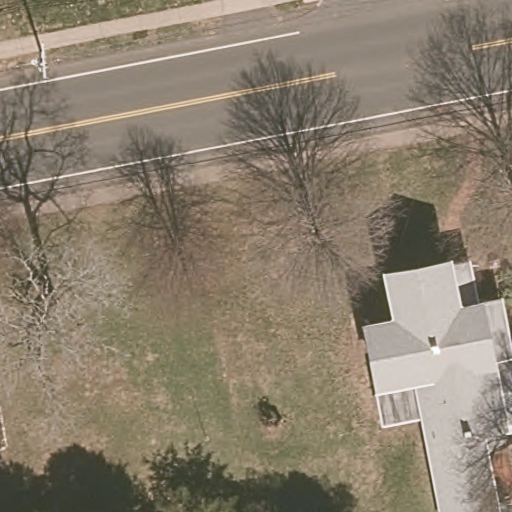DT: (29, 41, 61, 80)
